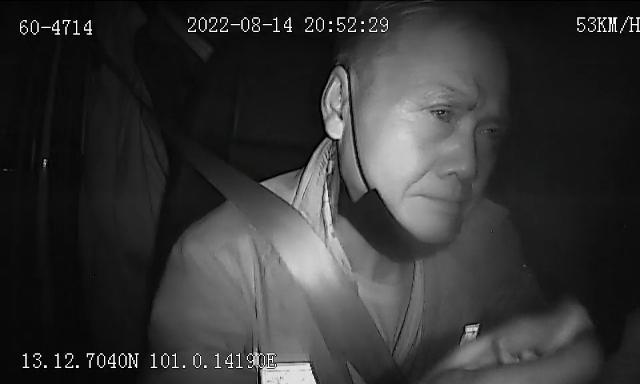SafeDriving: (420, 92, 459, 130), (473, 114, 508, 145)
Seatbelt: (187, 143, 403, 384)
